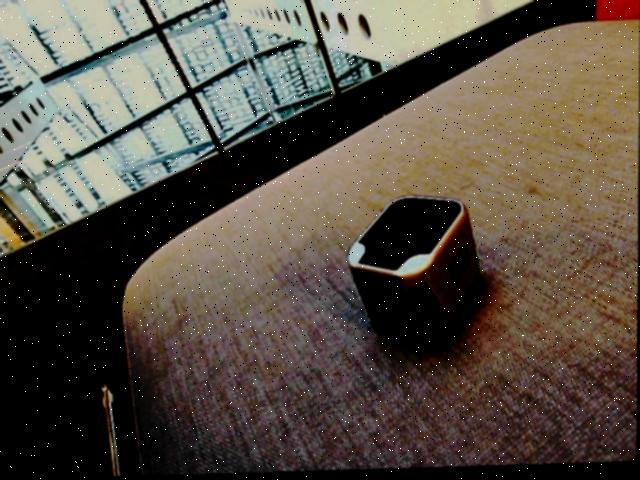adapter: (346, 195, 480, 349)
